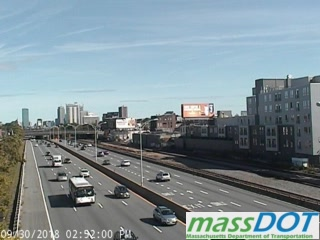car: (69, 176, 96, 205), (153, 205, 178, 226), (114, 185, 132, 199), (156, 170, 172, 182), (52, 155, 63, 167), (79, 169, 90, 178), (56, 172, 68, 180), (121, 159, 131, 167), (102, 158, 113, 165), (63, 157, 71, 164), (86, 141, 92, 147), (97, 152, 104, 157), (44, 151, 51, 156), (80, 146, 87, 150), (54, 143, 59, 148), (46, 143, 51, 148), (103, 151, 109, 155), (34, 143, 39, 147), (40, 140, 45, 144)
